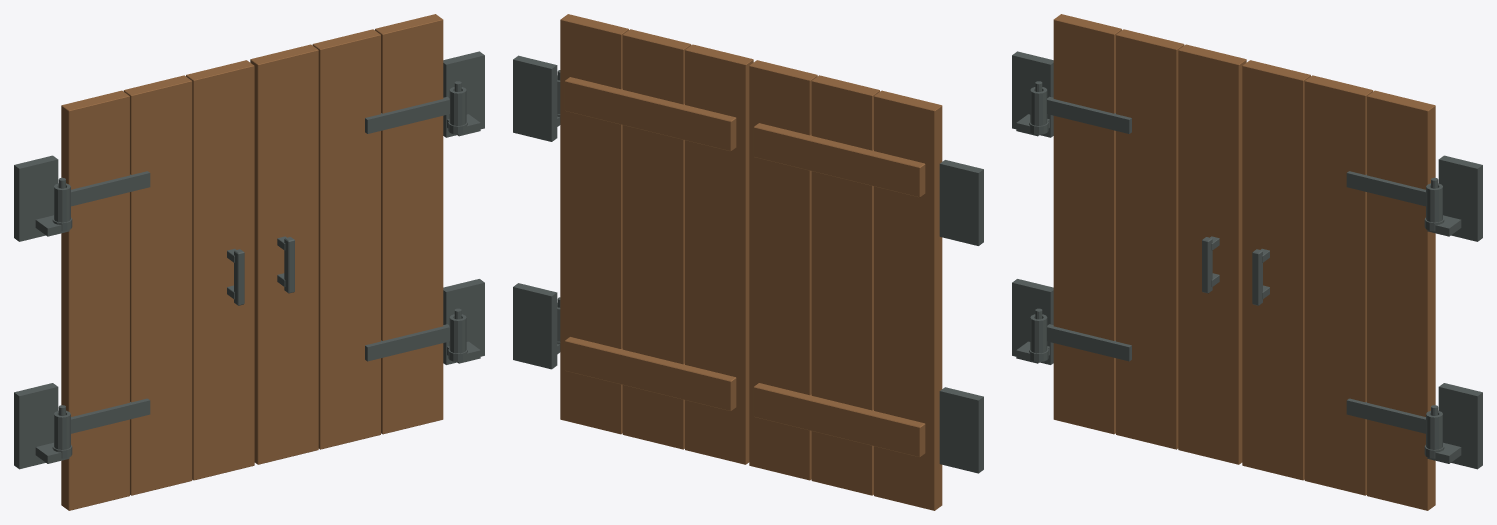
The picture shows the model from 3 angles, left to right: view 1: azimuth 30°, elevation 25°; view 2: azimuth 150°, elevation 25°; view 3: azimuth 330°, elevation 25°; orthographic projection.
Visible parts, largest first — view 1: LeftShutter_Runtime, RightShutter_Runtime, HingeMounts_Static; view 2: LeftShutter_Runtime, RightShutter_Runtime, HingeMounts_Static; view 3: RightShutter_Runtime, LeftShutter_Runtime, HingeMounts_Static.
Boxes of the visible parts, x1,y1,x2,y2 form: LeftShutter_Runtime: [54, 60, 254, 510]; RightShutter_Runtime: [250, 14, 466, 464]; HingeMounts_Static: [14, 51, 484, 469]; LeftShutter_Runtime: [749, 60, 942, 510]; RightShutter_Runtime: [557, 14, 753, 464]; HingeMounts_Static: [513, 55, 983, 473]; RightShutter_Runtime: [1242, 60, 1442, 510]; LeftShutter_Runtime: [1030, 14, 1246, 464]; HingeMounts_Static: [1012, 51, 1482, 469].
Size of the model in its own units: 1.2 by 0.986 by 0.105.
